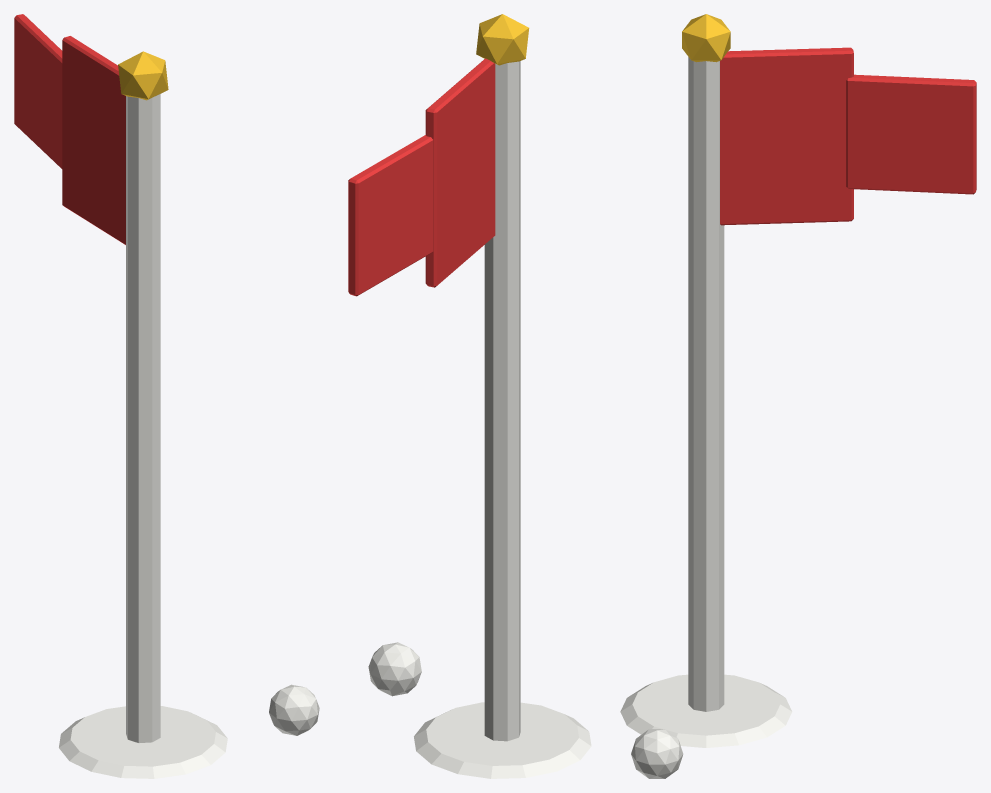
Rendered from golf_flag.glb.
3 views of the same model, side by side, from view 1: azimuth 30°, elevation 25°; view 2: azimuth 150°, elevation 25°; view 3: azimuth 270°, elevation 25° (orthographic). The views are drawn at different scales.
Parts seen in each view (by area): view 1: SmoothPlastic__F5F5F0, SmoothPlastic__EB3C3C, SmoothPlastic__FAC832; view 2: SmoothPlastic__F5F5F0, SmoothPlastic__EB3C3C, SmoothPlastic__FAC832; view 3: SmoothPlastic__EB3C3C, SmoothPlastic__F5F5F0, SmoothPlastic__FAC832.
Boxes of the visible parts, x1,y1,x2,y2 form: SmoothPlastic__F5F5F0: (59, 94, 319, 778); SmoothPlastic__EB3C3C: (14, 14, 125, 244); SmoothPlastic__FAC832: (118, 51, 168, 100); SmoothPlastic__F5F5F0: (368, 61, 591, 778); SmoothPlastic__EB3C3C: (348, 58, 495, 296); SmoothPlastic__FAC832: (476, 14, 529, 65); SmoothPlastic__EB3C3C: (720, 47, 976, 225); SmoothPlastic__F5F5F0: (620, 57, 792, 778); SmoothPlastic__FAC832: (682, 14, 730, 62).
Size of the model in its own units: 3.15 by 9.45 by 4.35.
